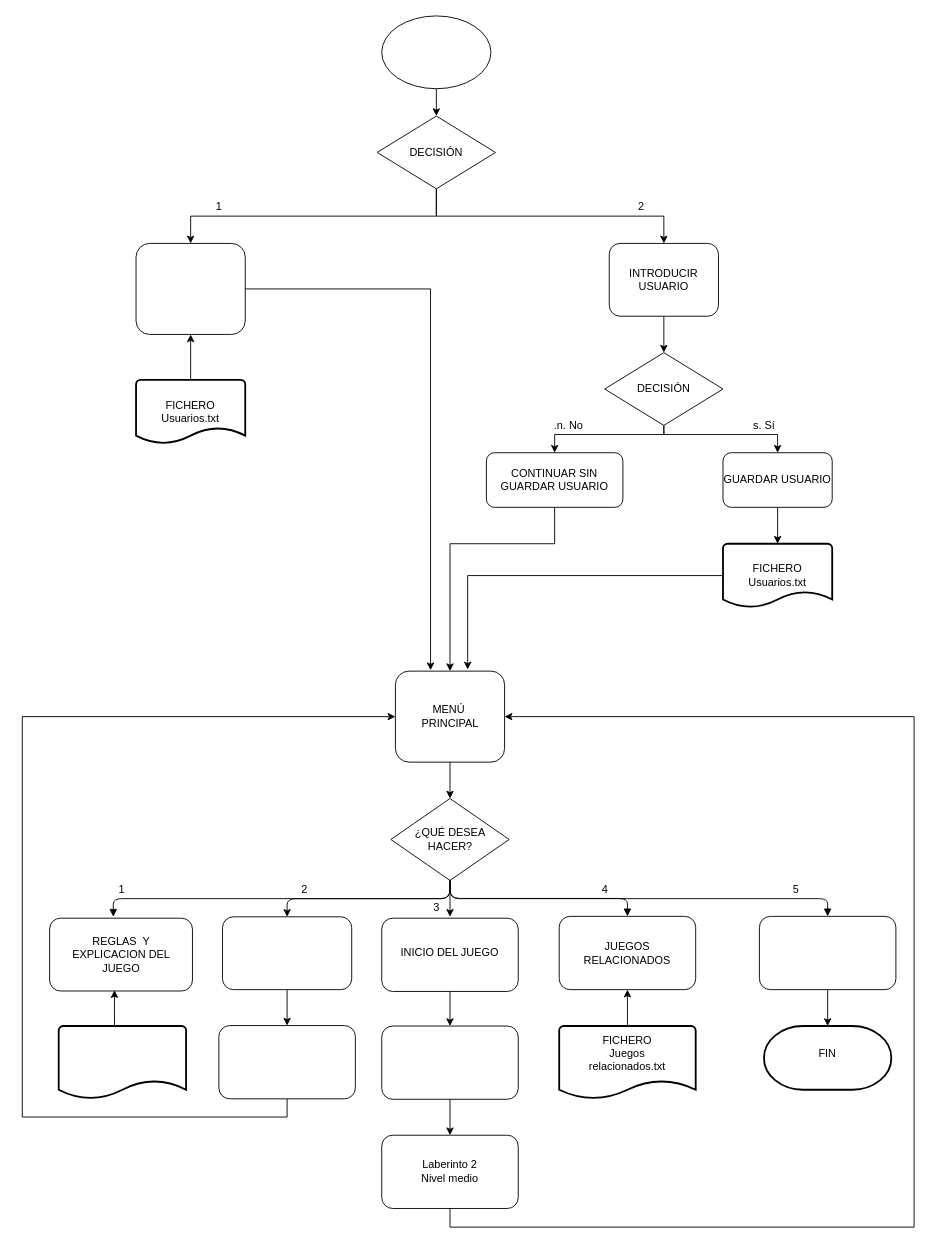
The diagram is 937 pixels wide and 1250 high, and some of its shapes have lost their labels. The shapes that lost their labels are listed below. From the top down, each one's box as (x1, y1, x2, y2) in pixels, then its label:
(381, 15, 491, 89): INICIO
(135, 243, 245, 334): ELEGIR USUARIO
(222, 916, 352, 990): MODO MULTIJUGADOR
(758, 915, 896, 990): SALIDA DEL MENU
(57, 1025, 187, 1099): FICHERO Reglas.txt
(218, 1025, 355, 1099): Laberinto 3
(381, 1025, 518, 1099): Laberinto 1 Nivel fácil
